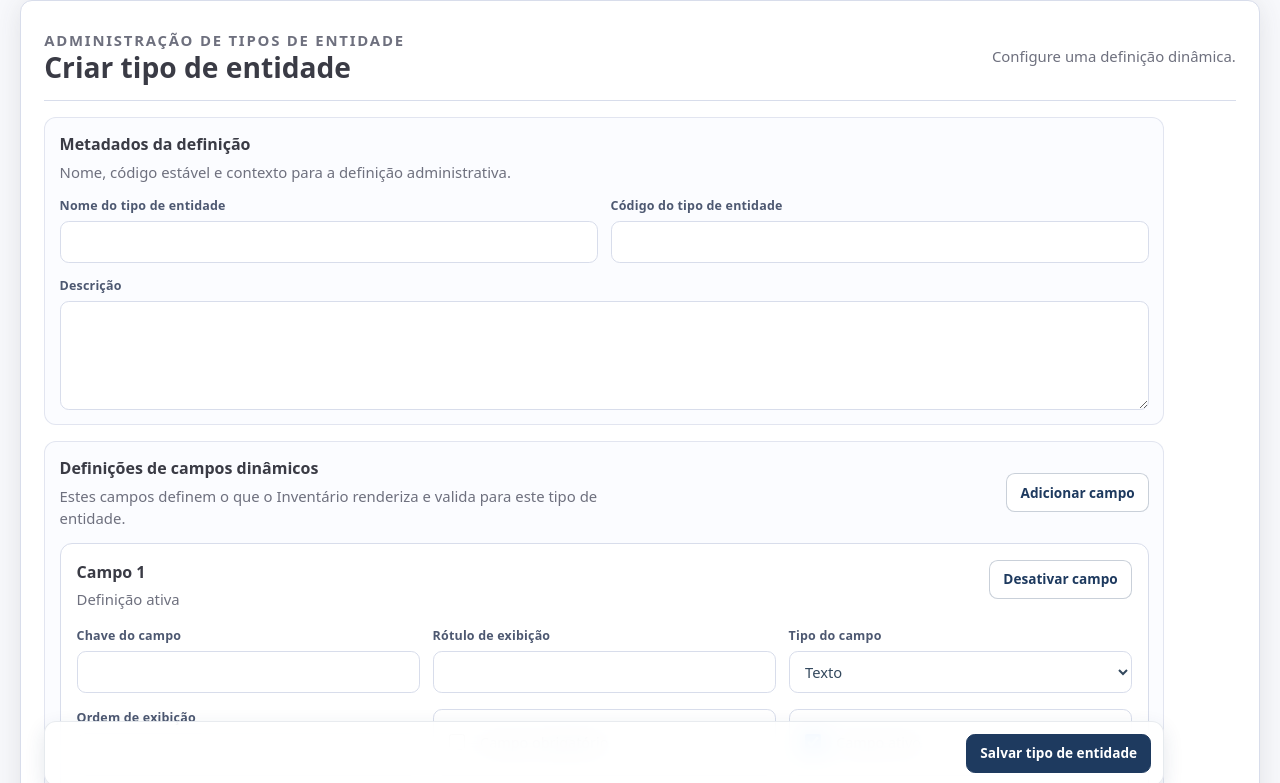
EntityTypeForm › should localize validation messages when Portuguese is selected
What coordinates should you click on to do the following:
click the button "Salvar tipo de entidade"
I would click on:
 (1059, 754)
Its box is 966,734 -> 1151,773.
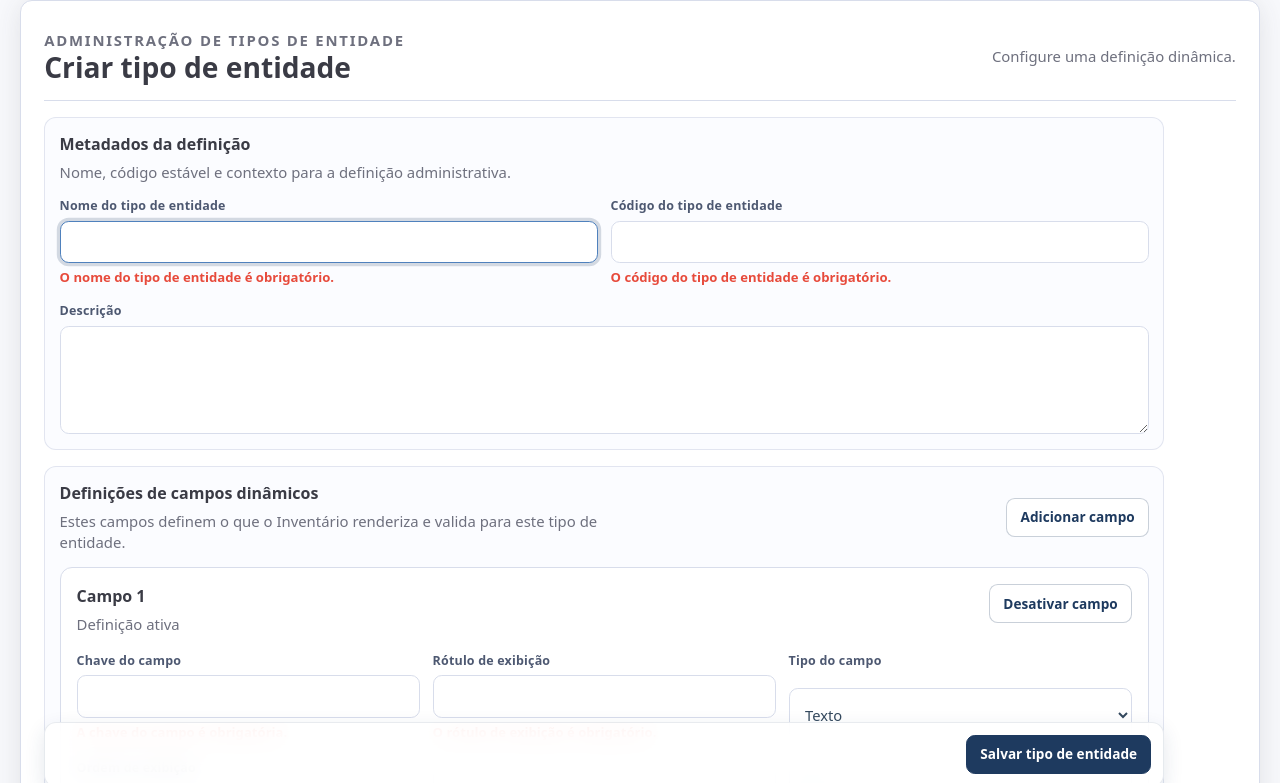
expect the text "O nome do tipo de entidade é obrigatório." is shown: met, box 60,268 -> 334,286
expect the text "O código do tipo de entidade é obrigatório." is shown: met, box 611,268 -> 891,286
